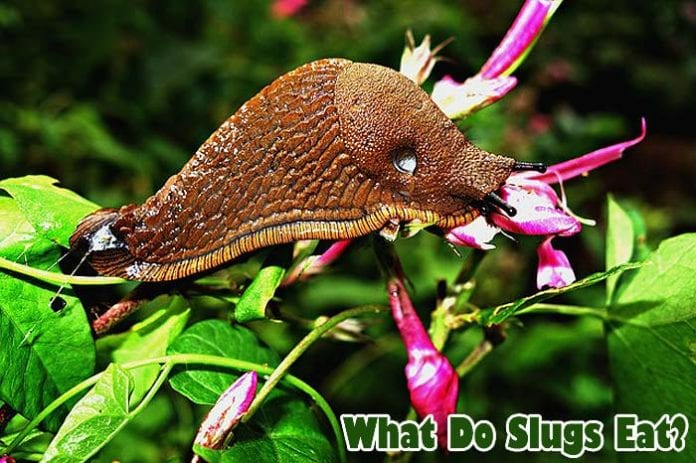slug: (69, 62, 568, 284)
